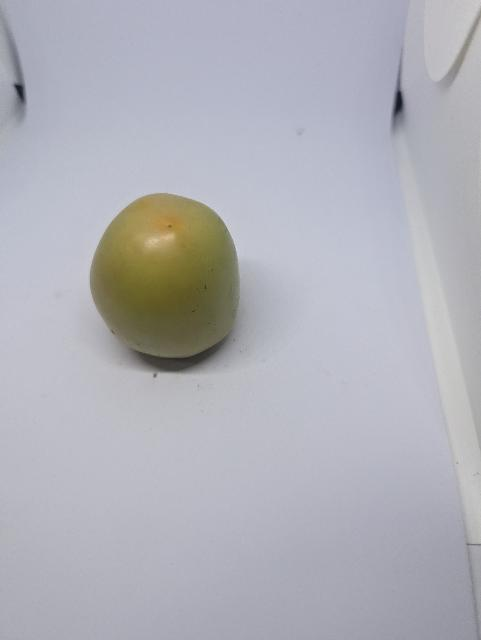breaker: (86, 188, 243, 364)
